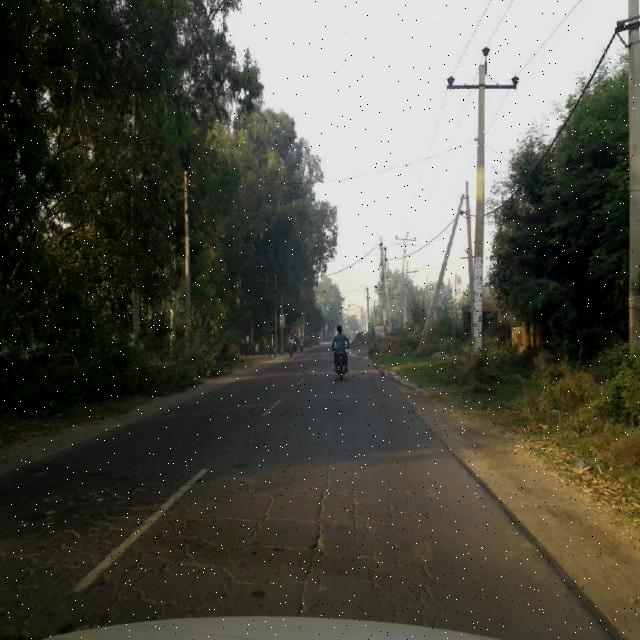D20: (1, 460, 450, 616)
